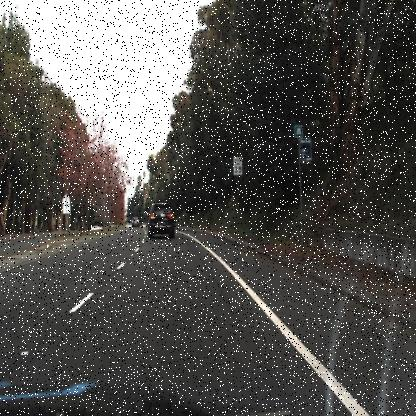car: (144, 200, 176, 242), (128, 210, 142, 232), (87, 219, 105, 234), (130, 213, 142, 232)
